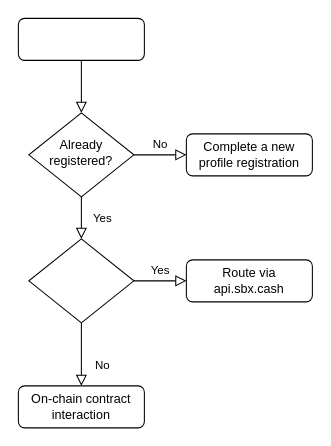
Some shapes in this 331 by 446 pixel diagram are drawn without their labels. Each missing label, with the box of its shape:
API request?: (28, 238, 134, 323)
Service requests asset transfer: (17, 17, 144, 60)
